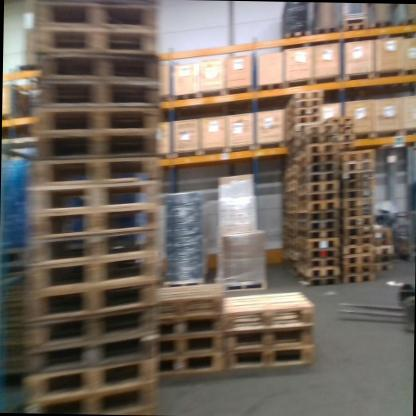forklift: (331, 269, 413, 326)
pallet: (24, 287, 155, 354), (29, 349, 159, 398), (29, 250, 156, 296), (22, 220, 157, 262), (24, 153, 160, 191), (28, 202, 156, 239), (30, 274, 153, 310), (27, 336, 157, 370), (31, 138, 164, 171), (31, 106, 158, 140), (221, 285, 314, 331), (35, 52, 157, 87), (31, 2, 159, 33), (23, 179, 156, 205), (28, 27, 155, 53), (31, 83, 159, 107), (226, 318, 313, 352), (225, 349, 319, 378), (76, 383, 156, 415), (164, 304, 231, 341), (153, 353, 225, 384), (152, 285, 218, 317), (157, 336, 225, 359), (282, 87, 321, 115), (298, 169, 339, 190), (283, 101, 324, 122), (295, 143, 335, 164), (297, 154, 336, 175), (294, 216, 338, 234), (298, 164, 338, 183), (296, 199, 338, 216), (299, 182, 337, 200), (299, 208, 339, 225), (297, 236, 339, 251), (301, 247, 338, 264), (297, 191, 338, 206), (287, 108, 327, 123), (303, 256, 341, 271), (289, 115, 322, 132), (297, 227, 340, 240), (342, 15, 369, 34), (340, 158, 374, 173), (340, 184, 374, 199), (301, 133, 331, 150), (302, 274, 340, 287), (289, 127, 315, 146), (282, 26, 312, 42), (342, 167, 373, 182), (340, 149, 373, 163), (341, 196, 374, 210), (303, 267, 341, 279), (371, 19, 391, 40), (340, 206, 374, 218), (342, 263, 371, 276), (342, 226, 371, 238), (342, 215, 373, 226), (313, 24, 337, 38), (340, 177, 373, 187), (398, 15, 416, 33), (373, 262, 393, 278), (340, 235, 371, 245), (340, 254, 370, 264), (326, 115, 353, 126), (335, 130, 353, 146), (340, 245, 371, 254), (370, 228, 391, 241), (370, 247, 393, 258), (338, 123, 354, 137), (342, 274, 370, 282), (370, 238, 393, 247), (372, 255, 392, 262)
stillage: (0, 271, 57, 409), (5, 132, 48, 272), (390, 206, 415, 264)
